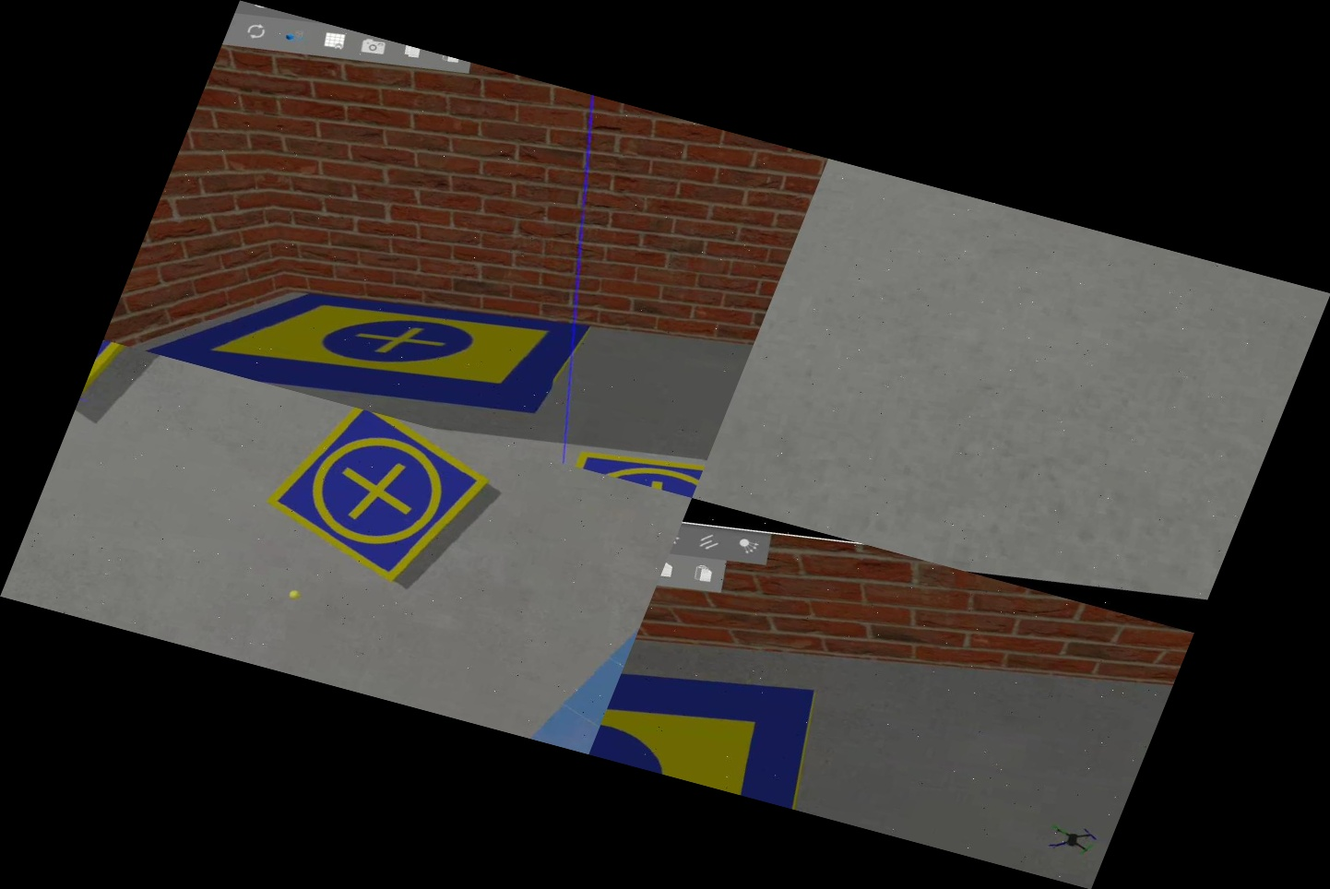large_base: (109, 208, 613, 463), (588, 640, 864, 815)
small_base: (220, 389, 523, 620), (69, 339, 160, 438)
